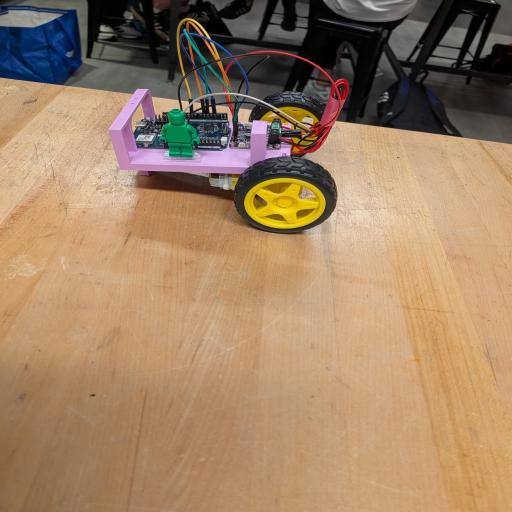Minifig: (160, 109, 199, 156)
